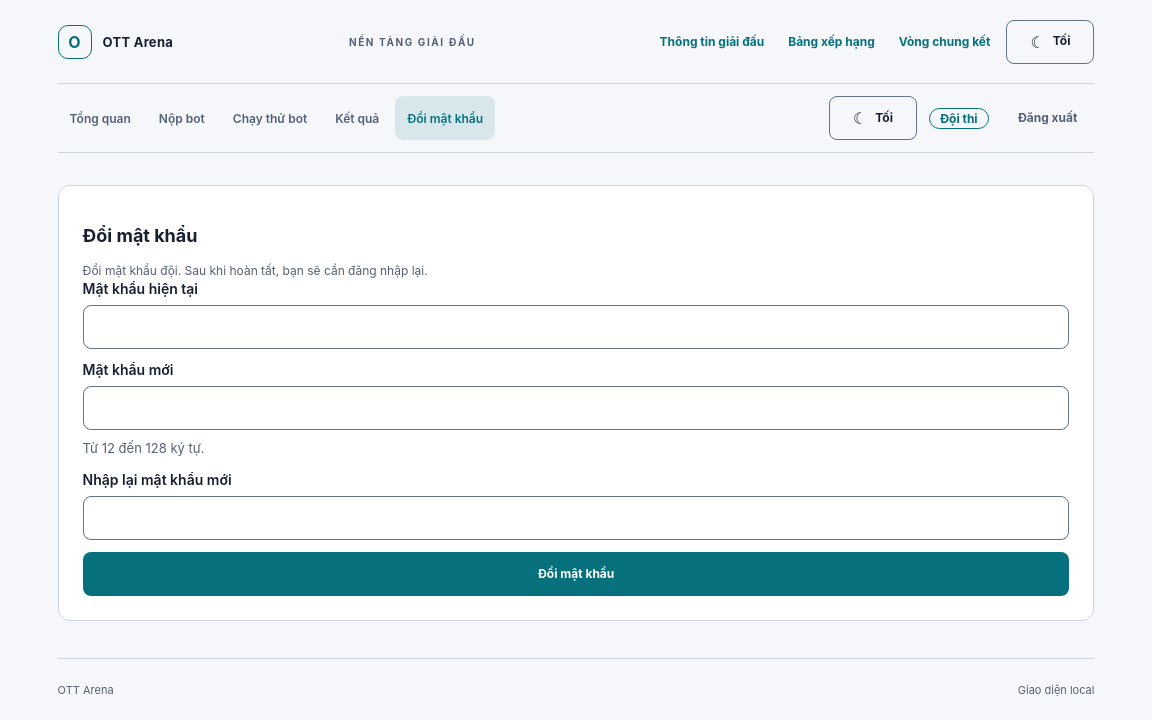
authentication routes › changes a team password, clears form values and requires a fresh login
Type "old-password" into the password field labelled "Mật khẩu hiện tại".
click(576, 327); type("old-password")  # box [83,305,1069,349]
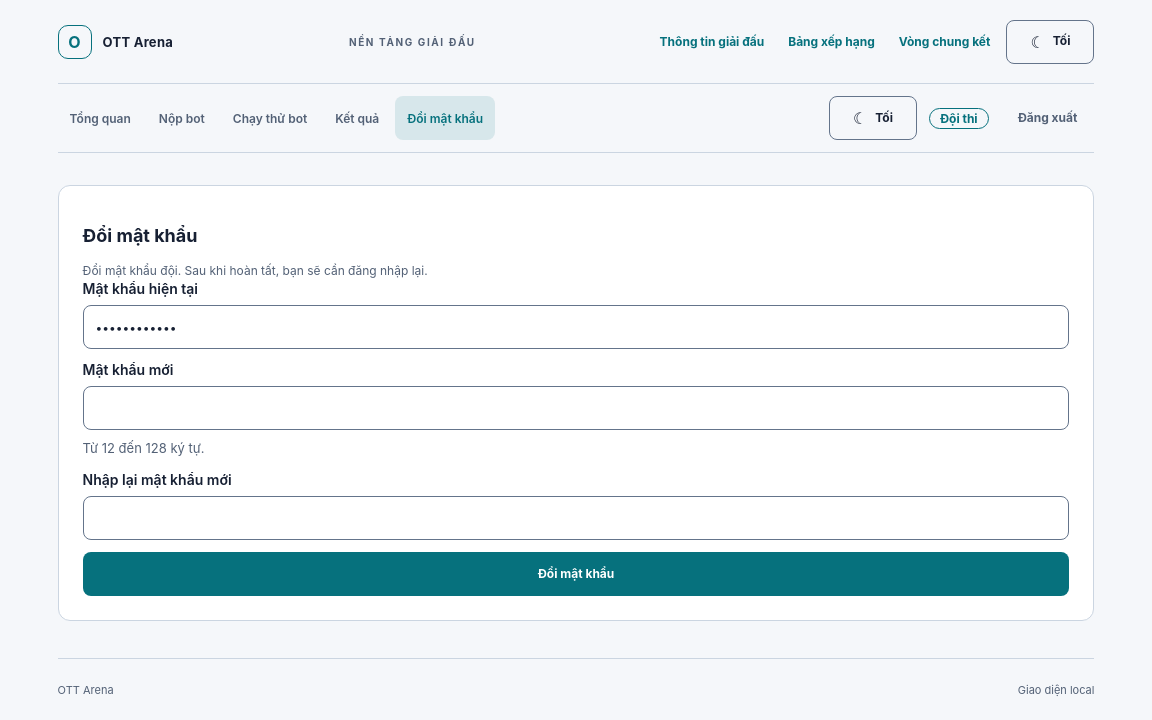
Type "new-password-123" into the password field labelled "Mật khẩu mới".
click(576, 408); type("new-password-123")  # box [83,386,1069,430]
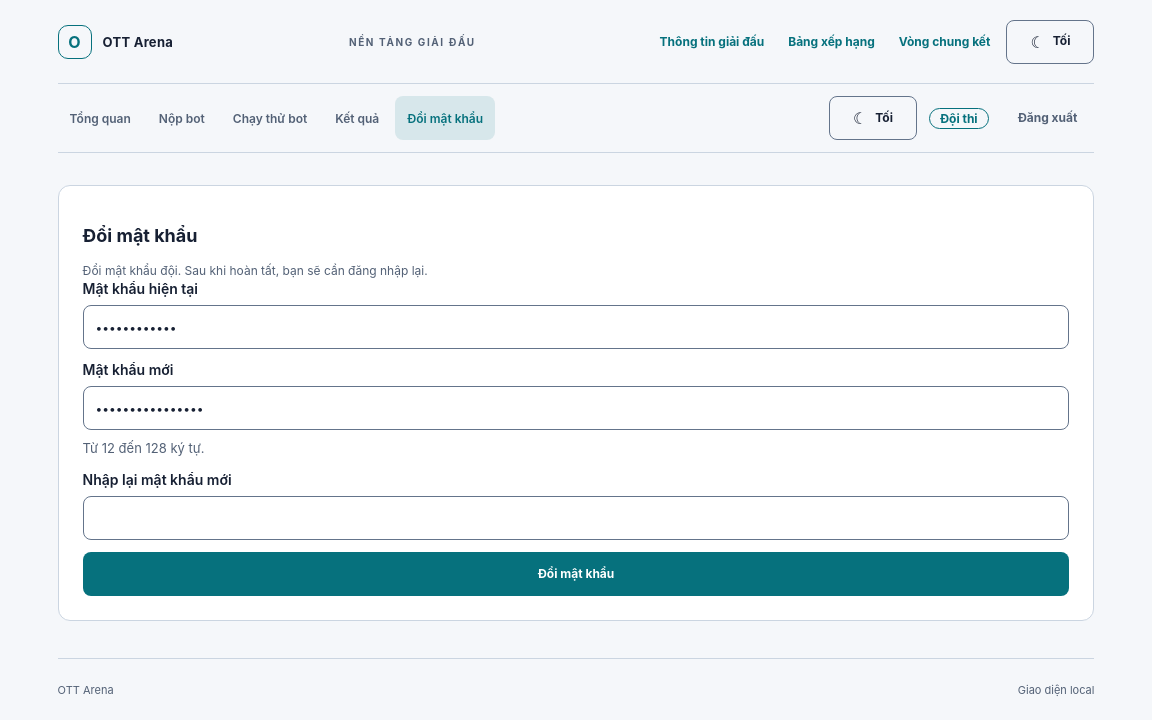
Type "new-password-123" into the password field labelled "Nhập lại mật khẩu mới".
click(576, 518); type("new-password-123")  # box [83,496,1069,540]
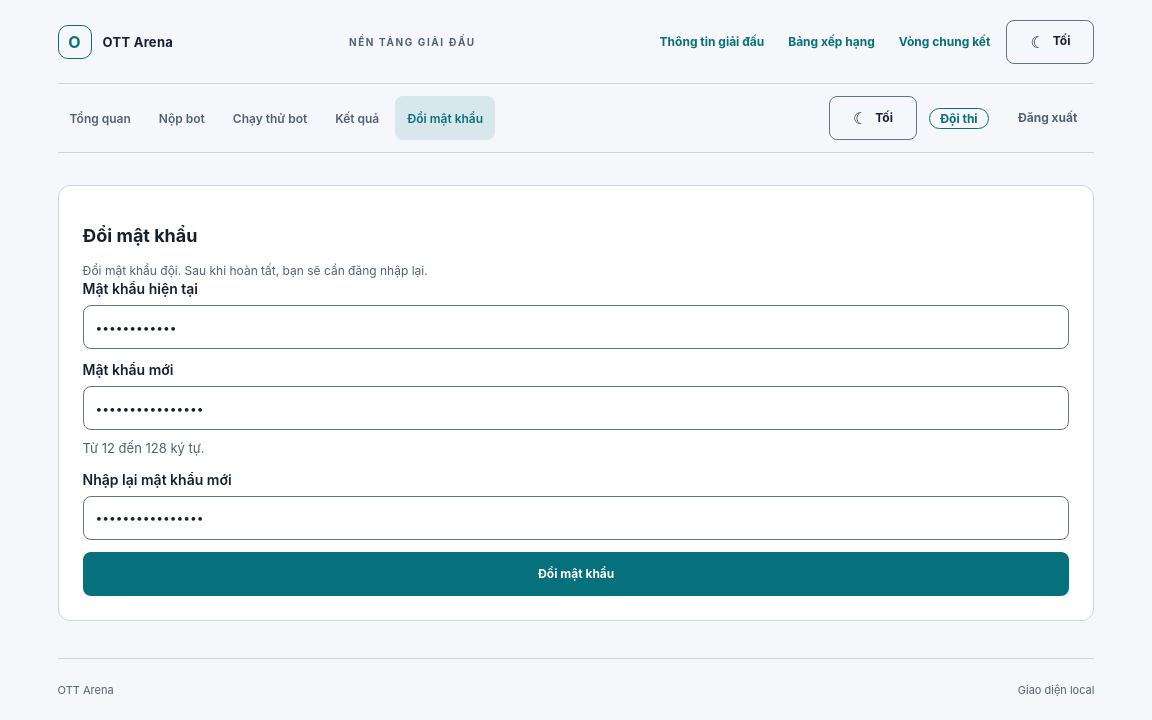
Submit the form named "Đổi mật khẩu", box [83,280,1069,596]
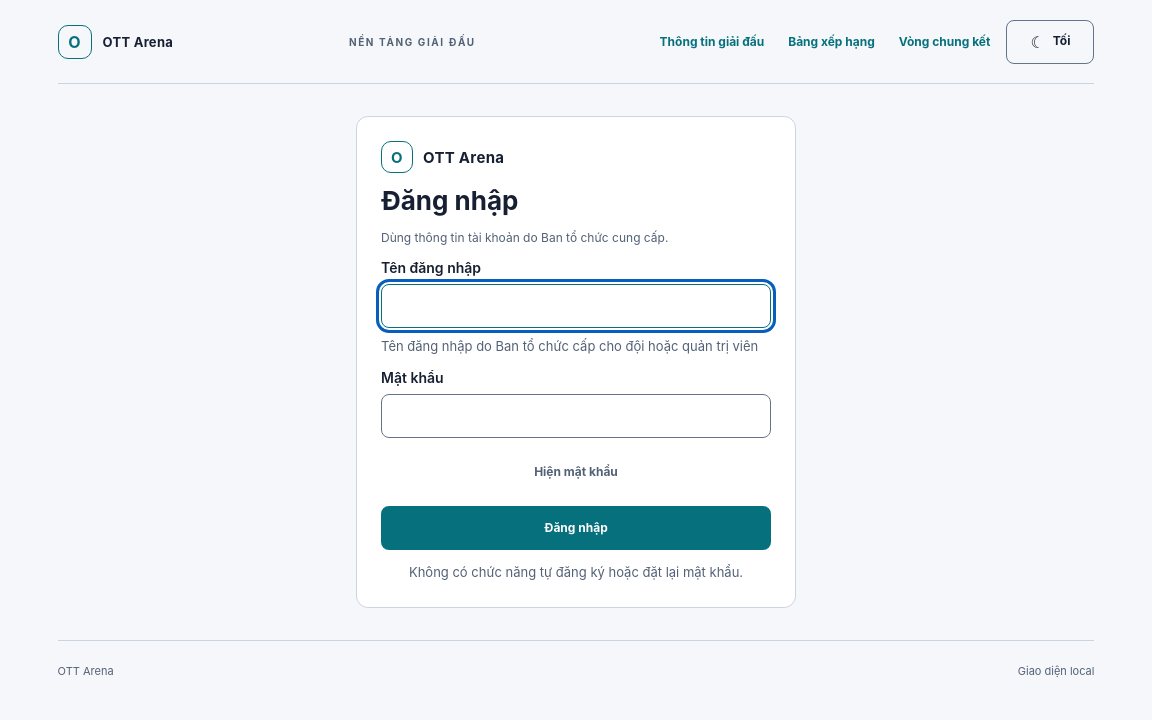
Result: the heading "Đăng nhập" is shown at [381,185,518,216]
